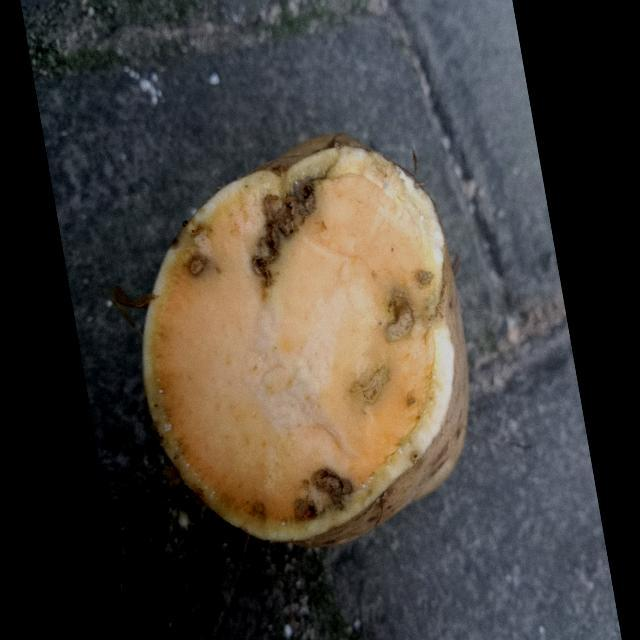Sick Sweet Potato_Tuber Rot: (132, 135, 468, 547)
